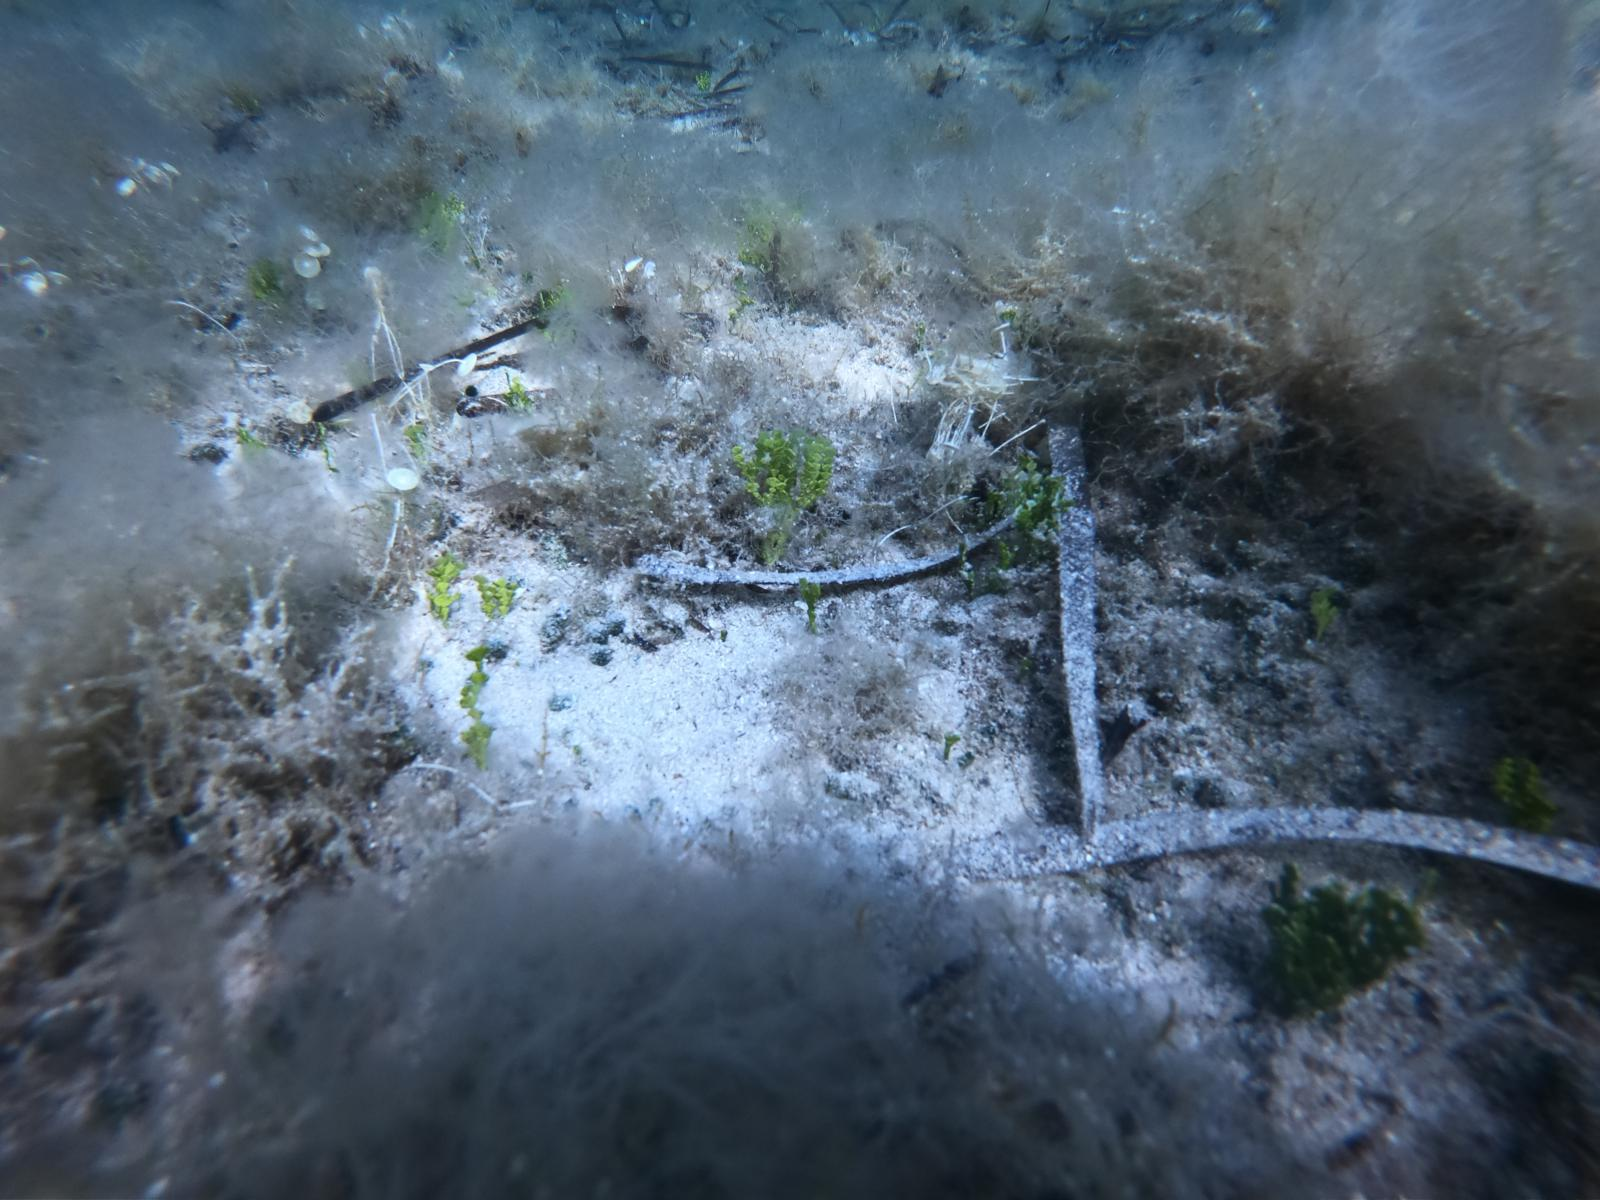halimeda: (724, 430, 842, 516), (1003, 470, 1054, 566), (462, 647, 500, 768), (426, 550, 465, 616), (471, 574, 519, 615)
